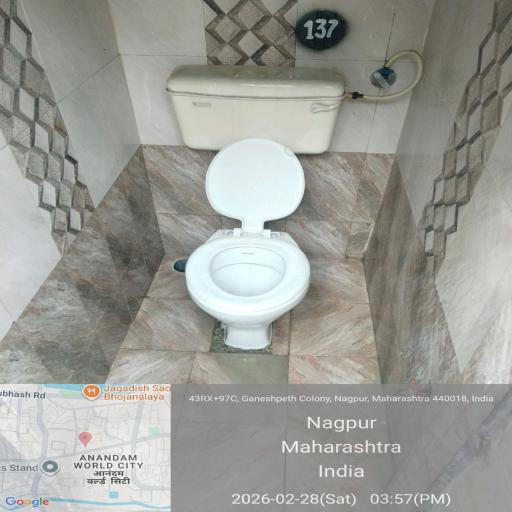clean_floor: (347, 88, 512, 394), (4, 9, 152, 334), (154, 1, 512, 72), (10, 332, 354, 386)
clean_western: (199, 140, 295, 322)
